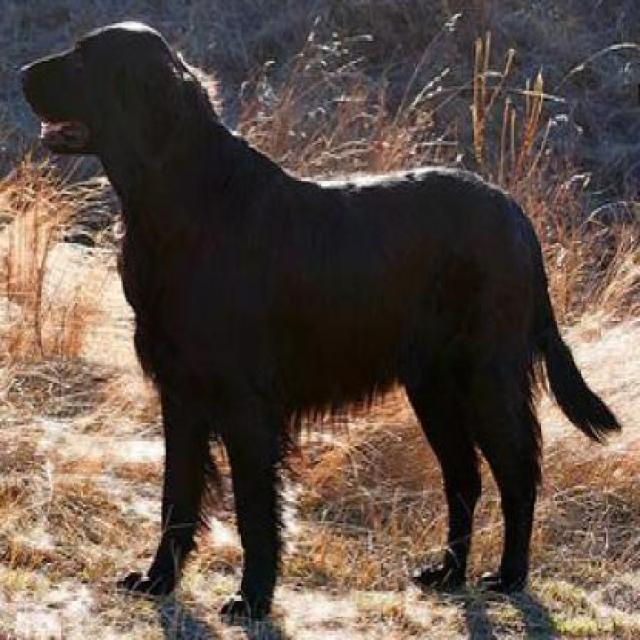Dog: (14, 21, 621, 624)
